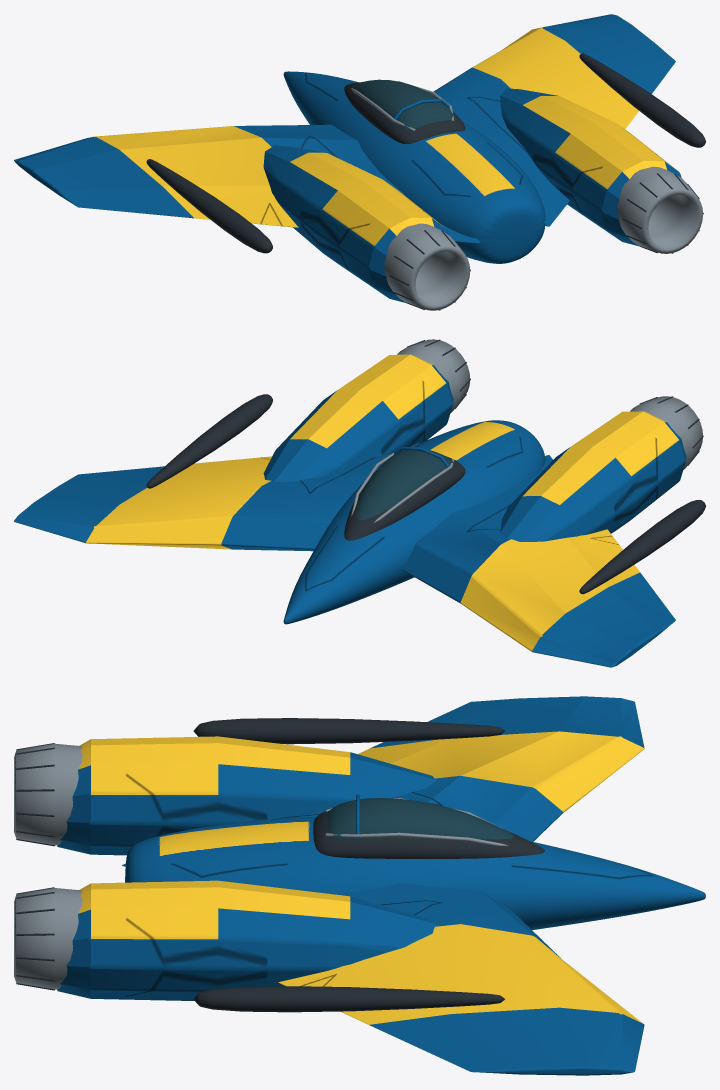
Rendered from runtime.glb.
3 renders of one model, top to bottom at view 1: azimuth 30°, elevation 25°; view 2: azimuth 150°, elevation 25°; view 3: azimuth 270°, elevation 25°, orthographic. The views are drawn at different scales.
Visible parts, largest first — view 1: ArcStrikerV2; view 2: ArcStrikerV2; view 3: ArcStrikerV2.
Part boxes in pixels (box(x1,y1,x2,y2)): ArcStrikerV2: box(14, 14, 705, 310); ArcStrikerV2: box(14, 339, 705, 667); ArcStrikerV2: box(14, 696, 705, 1075).
Size of the model in its own units: 3.66 by 0.6313 by 2.88.
6 materials, 2 textured.
